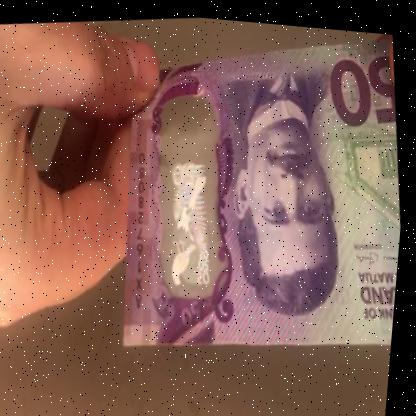50F: (152, 104, 232, 292)
